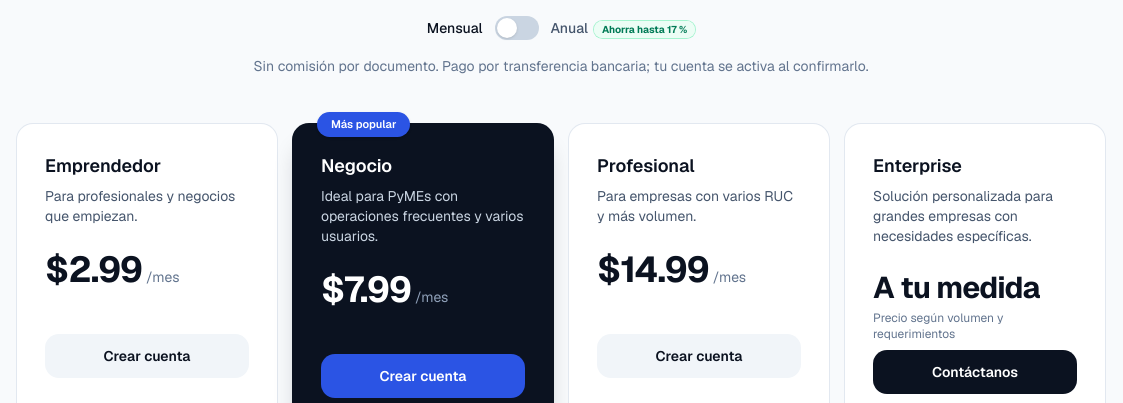
Scenario: Pricing › cambia a precios anuales con el switch
Click the switch named "Facturación anual". click: (516, 28)
box: [494, 16, 538, 40]
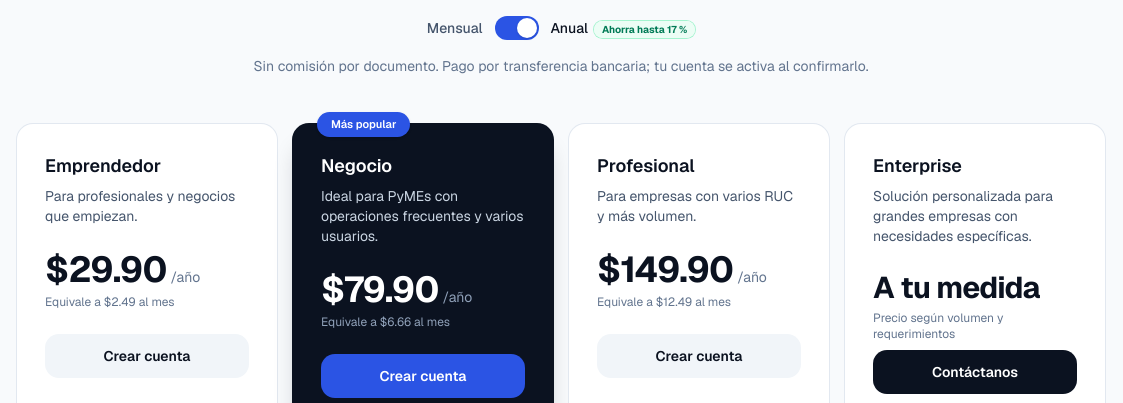
Expected: the text "Ahorra hasta 17 %" is shown, [594, 21, 695, 38]
Result: the text "$79.90" is shown at [321, 270, 438, 310]
Result: the text "$7.99" is gone
